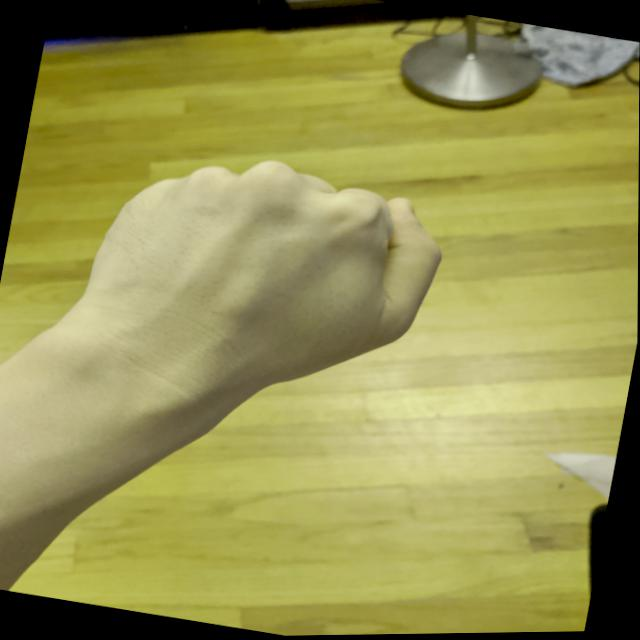A: (62, 125, 461, 427)
